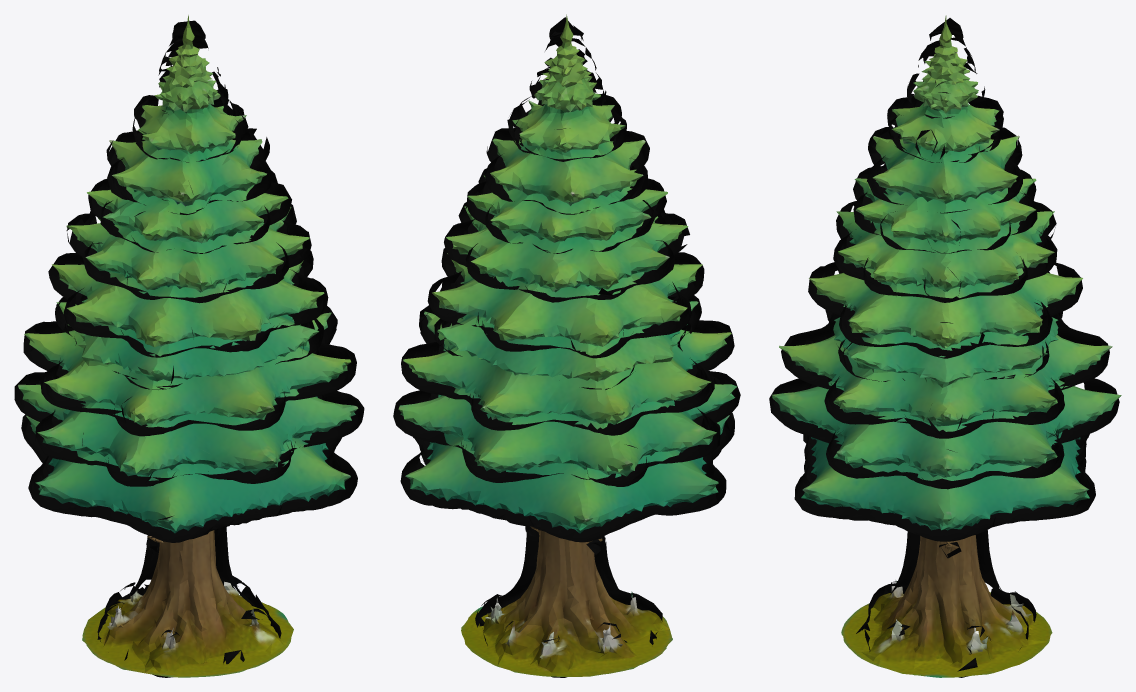
File: Ghibli_Tree_J.glb
3 renders of one model, left to right at view 1: azimuth 30°, elevation 25°; view 2: azimuth 150°, elevation 25°; view 3: azimuth 270°, elevation 25°, orthographic.
Parts seen in each view (by area): view 1: TreeJ, TreeJ_OutlineHull; view 2: TreeJ, TreeJ_OutlineHull; view 3: TreeJ, TreeJ_OutlineHull.
Part boxes in pixels (bbox=[...]): TreeJ: bbox=[18, 15, 358, 677]; TreeJ_OutlineHull: bbox=[14, 20, 364, 677]; TreeJ: bbox=[398, 14, 736, 676]; TreeJ_OutlineHull: bbox=[393, 17, 740, 677]; TreeJ: bbox=[772, 15, 1121, 677]; TreeJ_OutlineHull: bbox=[769, 18, 1119, 677].
Bounding box in the file's own units: 0.9995 × 1.93 × 0.9767.
2 materials, 1 textured.
